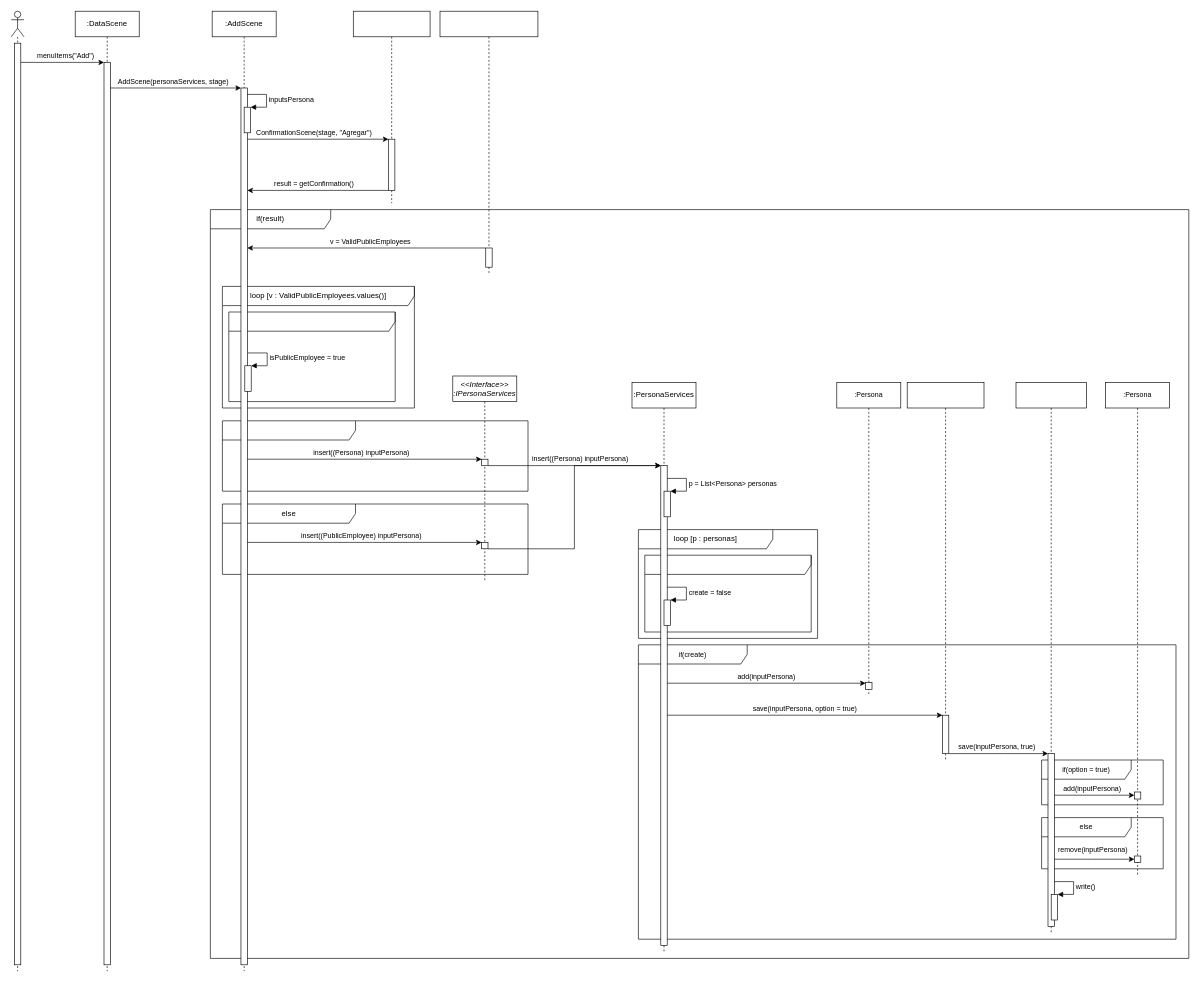
This 1200x982 diagram has some shape labels left out. The box of each missing label's shape, as (x1, y1, x2, y2) in pixels:
:ConfirmationScene: (353, 11, 430, 203)
:PersonaPersistence: (1015, 382, 1086, 933)
:ValidPublicEmployees: (439, 11, 538, 274)
<<Interface>> :IPersonaPersistence: (907, 382, 984, 760)
if(!isPublicEmployee): (222, 420, 528, 491)
if(inputPersona.inputPosition = v): (228, 311, 395, 402)
if(p.getId == inputPersona.gerId): (644, 555, 811, 632)
